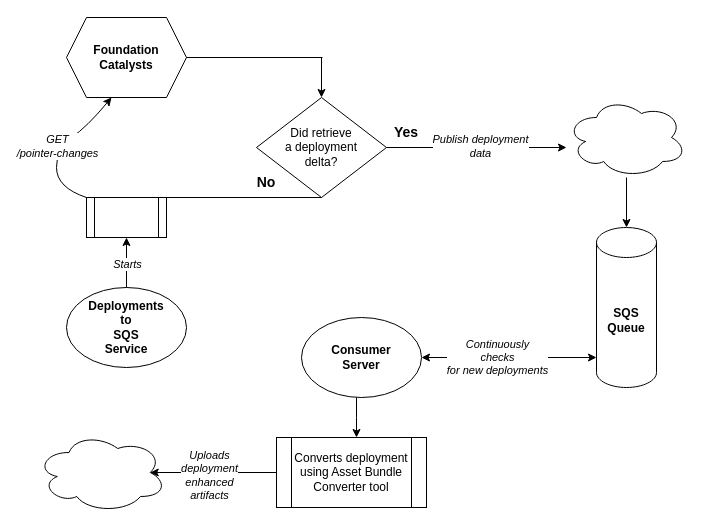
This 705x530 diagram has some shape labels left out. The shapes that lost their labels are listed below. From the top down, each one's box as (x1, y1, x2, y2) in pixels, then its label:
(566, 96, 686, 178): SNS Topic
(86, 196, 166, 238): Listener Process
(36, 432, 166, 512): Content-Delivery Network
